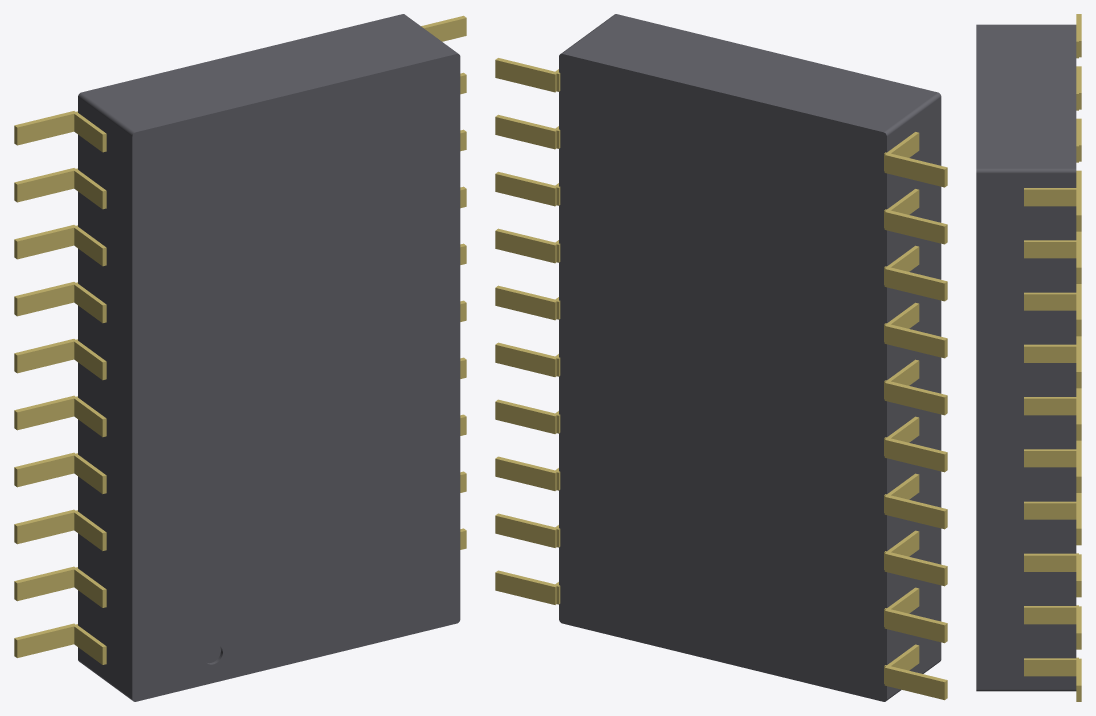
The picture shows the model from 3 angles, left to right: view 1: azimuth 30°, elevation 25°; view 2: azimuth 150°, elevation 25°; view 3: azimuth 270°, elevation 25°; orthographic projection. The views are drawn at different scales.
Visible parts, largest first — view 1: extra, pins; view 2: extra, pins; view 3: extra, pins.
Part boxes in pixels (x1,y1,x2,y2): extra: (78, 14, 460, 701); pins: (14, 15, 466, 664); extra: (559, 14, 941, 701); pins: (495, 58, 947, 700); extra: (976, 24, 1076, 691); pins: (1024, 14, 1081, 701).
Bounding box in the file's own units: 10.49 × 12.7 × 2.32.
